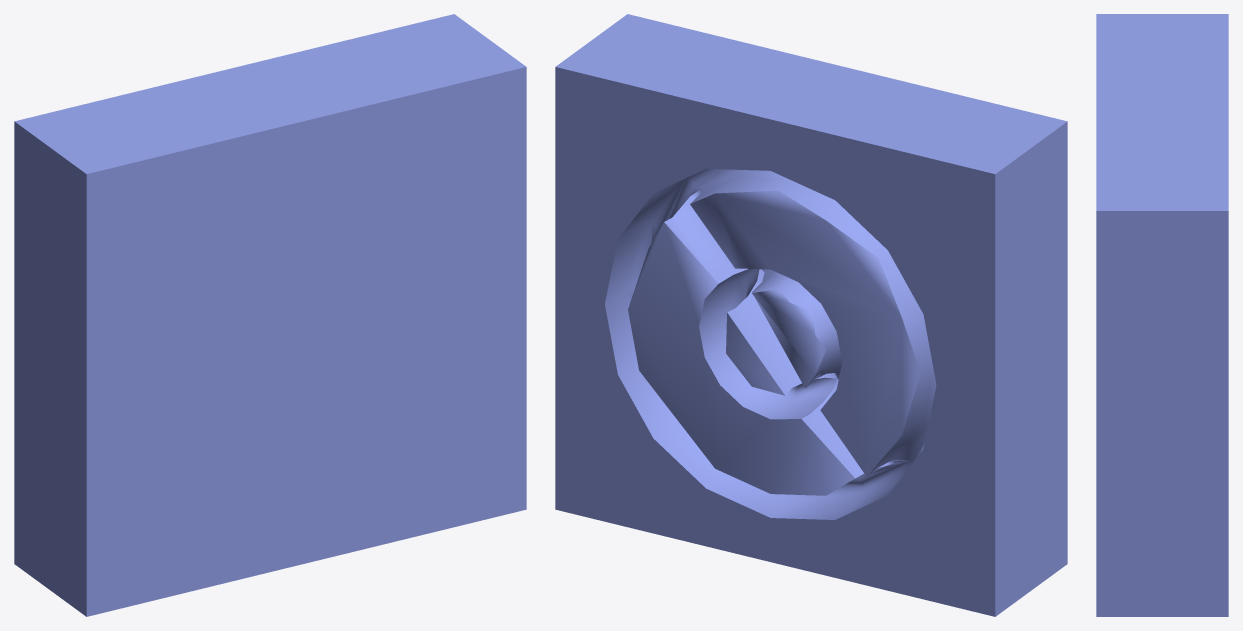
Rendered from FYP_TempleTrapCorridor_CodeBTN8.FBX.
3 views of the same model, side by side, from view 1: azimuth 30°, elevation 25°; view 2: azimuth 150°, elevation 25°; view 3: azimuth 270°, elevation 25° (orthographic). The views are drawn at different scales.
Visible parts, largest first — view 1: 8ThBox; view 2: 8ThBox; view 3: 8ThBox.
Part boxes in pixels (x1,y1,x2,y2): 8ThBox: [14, 14, 526, 616]; 8ThBox: [555, 14, 1067, 616]; 8ThBox: [1096, 14, 1228, 616].
Bounding box in the file's own units: 2.6 × 2.5 × 0.7396.
